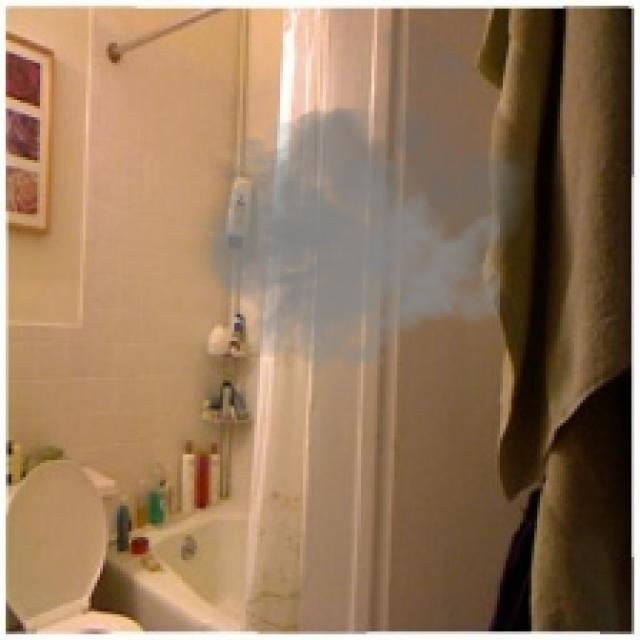smoke: (183, 12, 543, 377)
